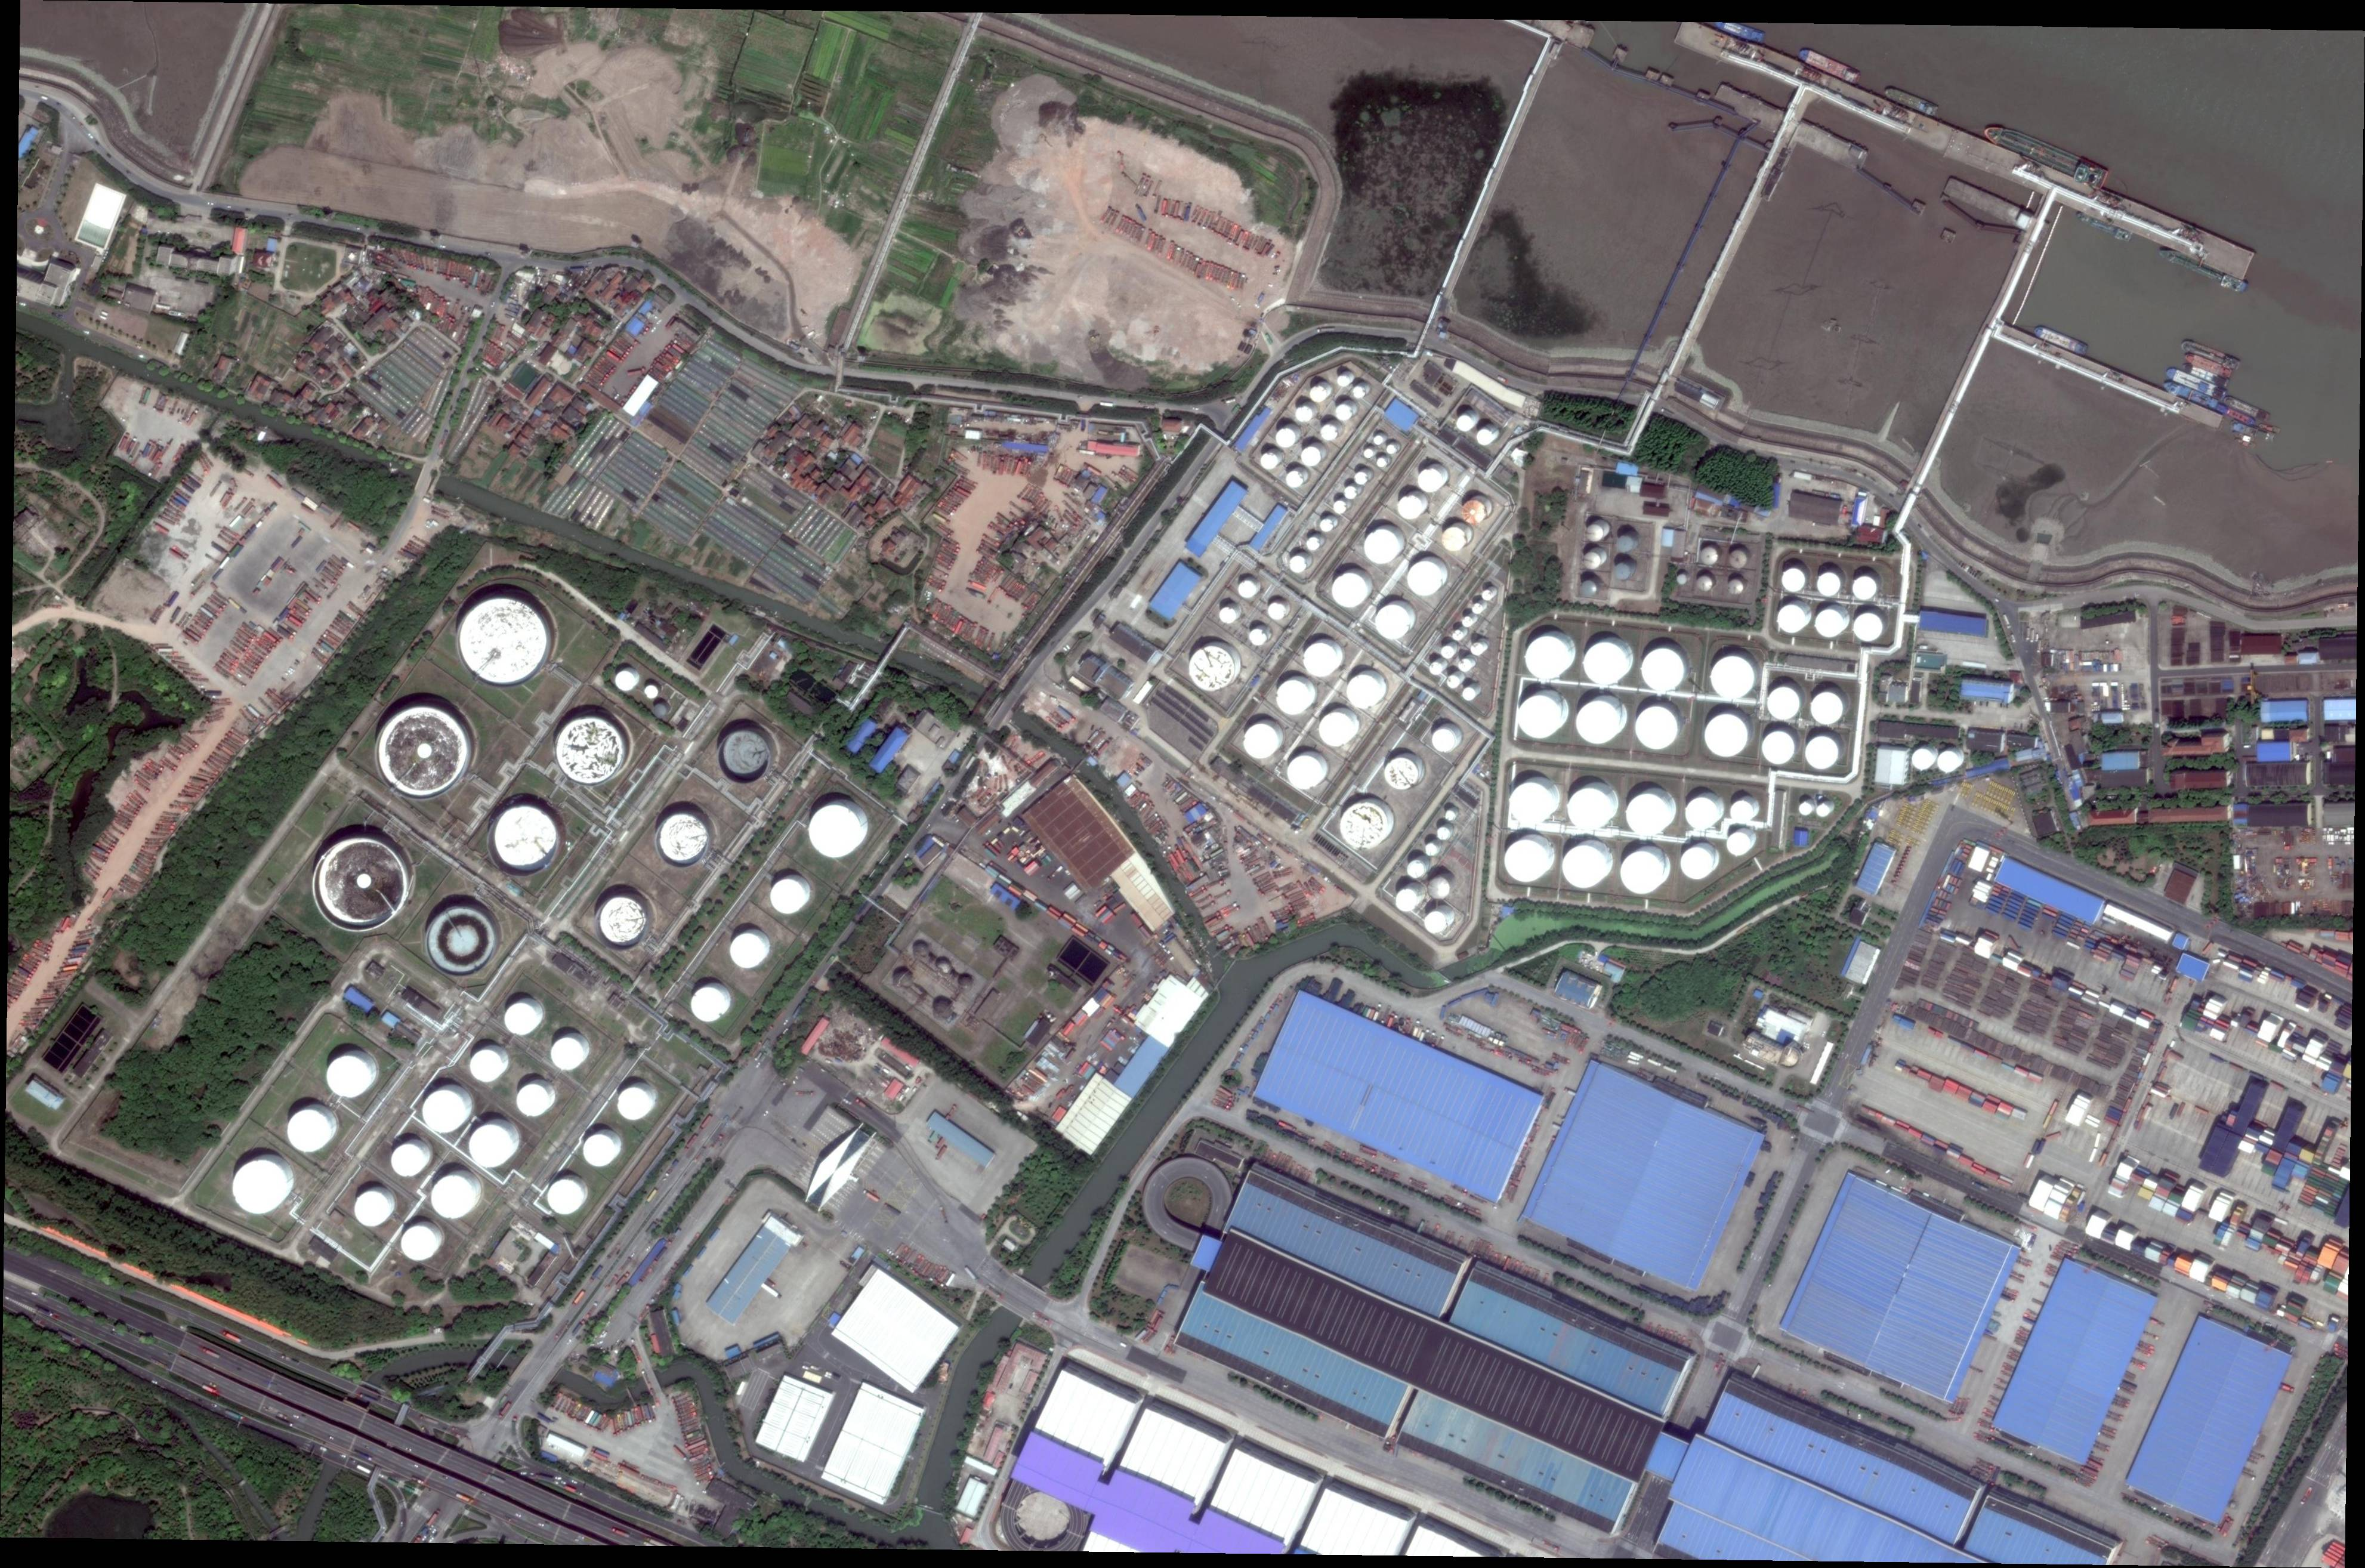bridge: (995, 1274, 1046, 1323), (987, 691, 1018, 731)
large vehicle: (617, 1463, 640, 1477), (486, 1472, 507, 1486), (855, 1097, 873, 1113), (862, 1188, 880, 1202), (572, 1319, 586, 1337), (700, 1113, 714, 1130), (684, 1134, 698, 1151), (590, 1265, 603, 1283), (455, 1493, 474, 1505), (572, 1290, 586, 1305), (612, 1528, 630, 1540), (645, 1188, 658, 1206), (499, 1402, 511, 1419), (616, 1272, 630, 1286), (593, 1447, 610, 1458), (535, 1473, 556, 1482), (591, 1452, 609, 1461)
ship: (1980, 121, 2110, 189), (2157, 245, 2248, 294), (1796, 45, 1863, 87), (2181, 338, 2241, 371), (1882, 84, 1938, 119), (2162, 378, 2220, 411), (2033, 324, 2089, 357), (2075, 210, 2132, 241), (2183, 352, 2234, 378), (2223, 394, 2271, 422), (1707, 23, 1765, 45), (2181, 362, 2230, 388), (2216, 402, 2258, 427)
storage tank: (311, 836, 409, 933), (376, 709, 467, 798), (458, 597, 548, 684), (485, 807, 562, 875), (427, 903, 495, 976), (556, 717, 623, 786), (806, 803, 864, 859), (717, 728, 771, 786), (593, 894, 651, 948), (233, 1162, 287, 1216), (654, 812, 708, 866), (1188, 646, 1235, 693), (1342, 801, 1387, 850), (2166, 366, 2229, 401), (422, 1088, 467, 1134), (1525, 635, 1569, 681), (1510, 782, 1553, 826), (1576, 700, 1620, 744), (1711, 656, 1755, 700), (1641, 647, 1685, 691), (287, 1111, 332, 1153), (1636, 705, 1678, 751), (432, 1174, 474, 1218), (327, 1057, 371, 1099), (471, 1125, 513, 1169), (1504, 840, 1548, 882), (1620, 852, 1664, 894), (1706, 714, 1748, 758), (1583, 642, 1627, 684), (1567, 789, 1613, 829), (1627, 794, 1669, 836), (1564, 845, 1606, 887), (1518, 697, 1560, 737), (728, 933, 766, 969), (355, 1192, 392, 1228), (1331, 572, 1368, 607), (549, 1178, 584, 1214), (1277, 679, 1312, 716), (1242, 724, 1279, 759), (691, 987, 726, 1024), (549, 1036, 586, 1071), (1377, 604, 1410, 642), (1364, 528, 1399, 563), (1319, 712, 1354, 747), (1287, 754, 1322, 789), (516, 1083, 551, 1118), (1303, 642, 1338, 677), (1384, 758, 1420, 791), (1408, 560, 1441, 597), (1345, 675, 1382, 709), (771, 878, 805, 915), (402, 1227, 437, 1260), (617, 1087, 651, 1122), (506, 1001, 539, 1036), (1805, 737, 1840, 770), (471, 1050, 504, 1083), (392, 1144, 425, 1178), (1810, 693, 1844, 726), (1762, 731, 1795, 765), (1681, 847, 1714, 880), (584, 1132, 616, 1167), (1769, 688, 1800, 721), (1686, 798, 1720, 829), (1854, 612, 1882, 642), (1816, 609, 1845, 637), (1777, 604, 1805, 633), (1431, 728, 1457, 752), (1461, 499, 1485, 525), (1816, 572, 1842, 597), (1398, 495, 1422, 520), (1852, 576, 1877, 600), (1730, 800, 1755, 824), (1396, 887, 1419, 913), (1427, 877, 1450, 901), (1424, 912, 1448, 934), (1419, 469, 1443, 492), (1443, 527, 1466, 551), (1782, 567, 1805, 591), (1727, 833, 1751, 856), (1936, 751, 1959, 773), (1301, 446, 1322, 467), (1275, 427, 1296, 448), (616, 670, 637, 691), (1912, 749, 1933, 770), (1286, 469, 1305, 490), (1406, 859, 1426, 880), (1237, 581, 1258, 600), (1259, 451, 1279, 471), (1266, 602, 1286, 621), (1308, 385, 1328, 402), (1296, 404, 1314, 423), (1289, 555, 1307, 574), (1700, 546, 1718, 565), (1580, 579, 1597, 598), (1583, 551, 1601, 570), (1730, 549, 1748, 569), (1321, 423, 1338, 441), (1249, 628, 1266, 646), (1219, 607, 1237, 625), (1613, 562, 1630, 579), (1587, 525, 1604, 542), (1618, 534, 1634, 553), (1336, 402, 1352, 420), (1476, 429, 1492, 446), (1457, 415, 1473, 432), (1728, 577, 1744, 595), (1697, 576, 1713, 591), (1436, 826, 1450, 842), (1424, 842, 1438, 857), (1307, 535, 1321, 551), (1462, 686, 1476, 702), (1333, 499, 1347, 514), (1319, 518, 1335, 532), (1440, 646, 1455, 660), (1352, 385, 1366, 399), (652, 703, 666, 717), (1429, 661, 1443, 675), (1336, 373, 1349, 388), (645, 684, 658, 700), (1354, 472, 1368, 485), (1343, 486, 1357, 499), (1447, 675, 1461, 688), (1816, 805, 1830, 817), (1798, 803, 1812, 815), (1471, 602, 1483, 616), (1471, 642, 1483, 656), (1459, 658, 1471, 672), (1445, 808, 1457, 821), (1482, 590, 1494, 602), (1452, 630, 1464, 640), (1462, 616, 1473, 628), (1363, 448, 1373, 458), (1678, 574, 1688, 584), (1373, 436, 1384, 444), (1377, 457, 1385, 467), (1387, 444, 1396, 453)
